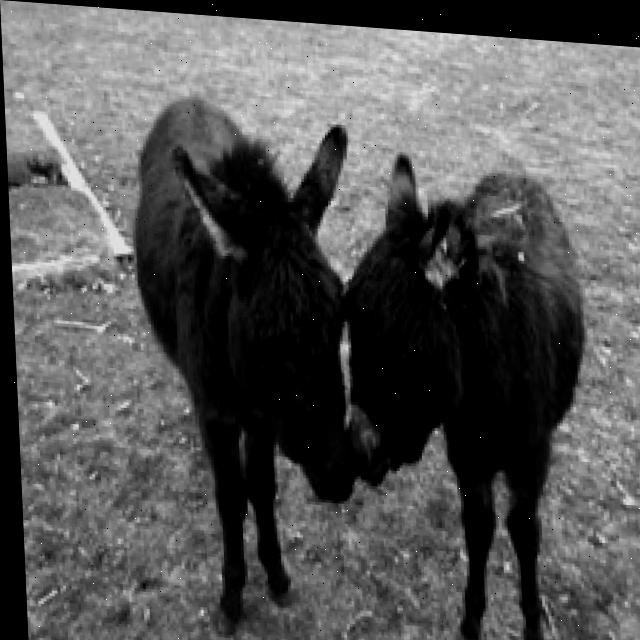Donkey: (123, 86, 371, 640), (331, 144, 599, 640)
